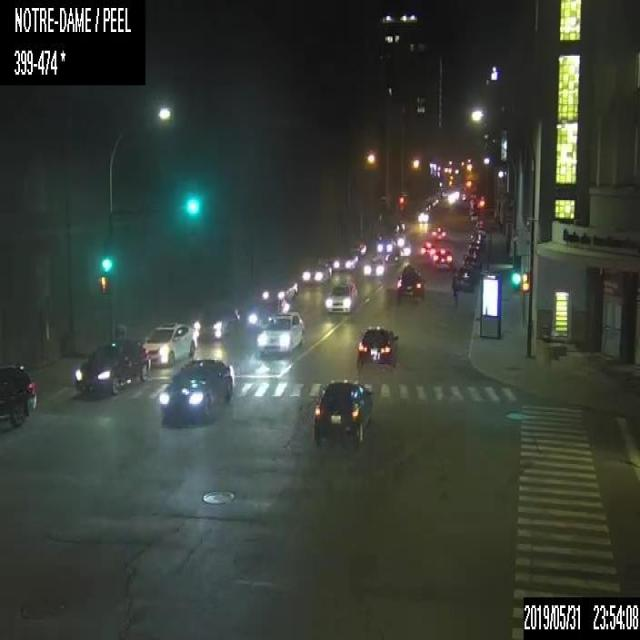pedestrian: (449, 269, 457, 308)
vehicle: (160, 358, 234, 425), (74, 340, 148, 397), (310, 379, 375, 441), (143, 320, 196, 365), (0, 360, 36, 426), (257, 310, 303, 354), (356, 326, 398, 371), (193, 301, 238, 341), (324, 278, 357, 314), (262, 276, 297, 307), (396, 265, 424, 298), (301, 260, 332, 284), (362, 254, 387, 277), (332, 251, 358, 270), (456, 267, 476, 291), (433, 246, 452, 268), (377, 236, 395, 257), (418, 240, 436, 259), (430, 225, 448, 240), (351, 239, 366, 256), (416, 212, 429, 223)
